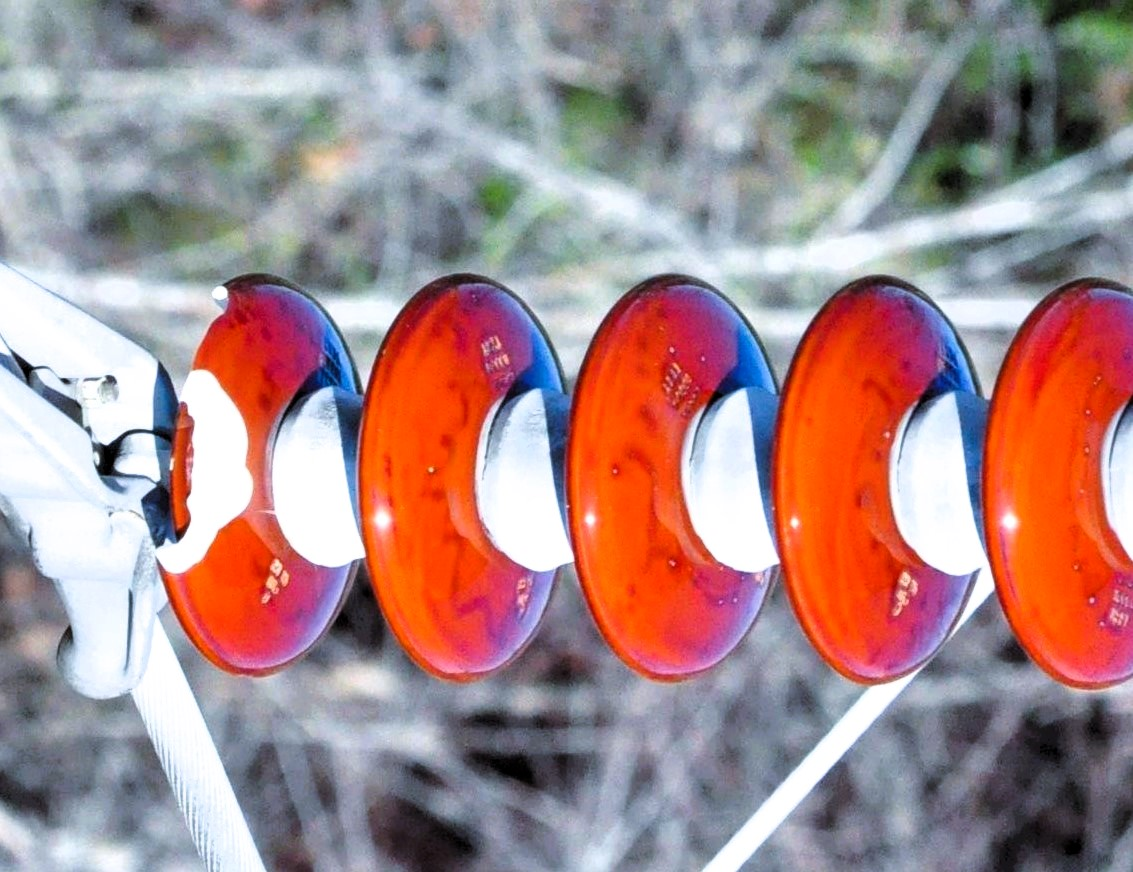insulator breakage: (152, 260, 367, 689)
